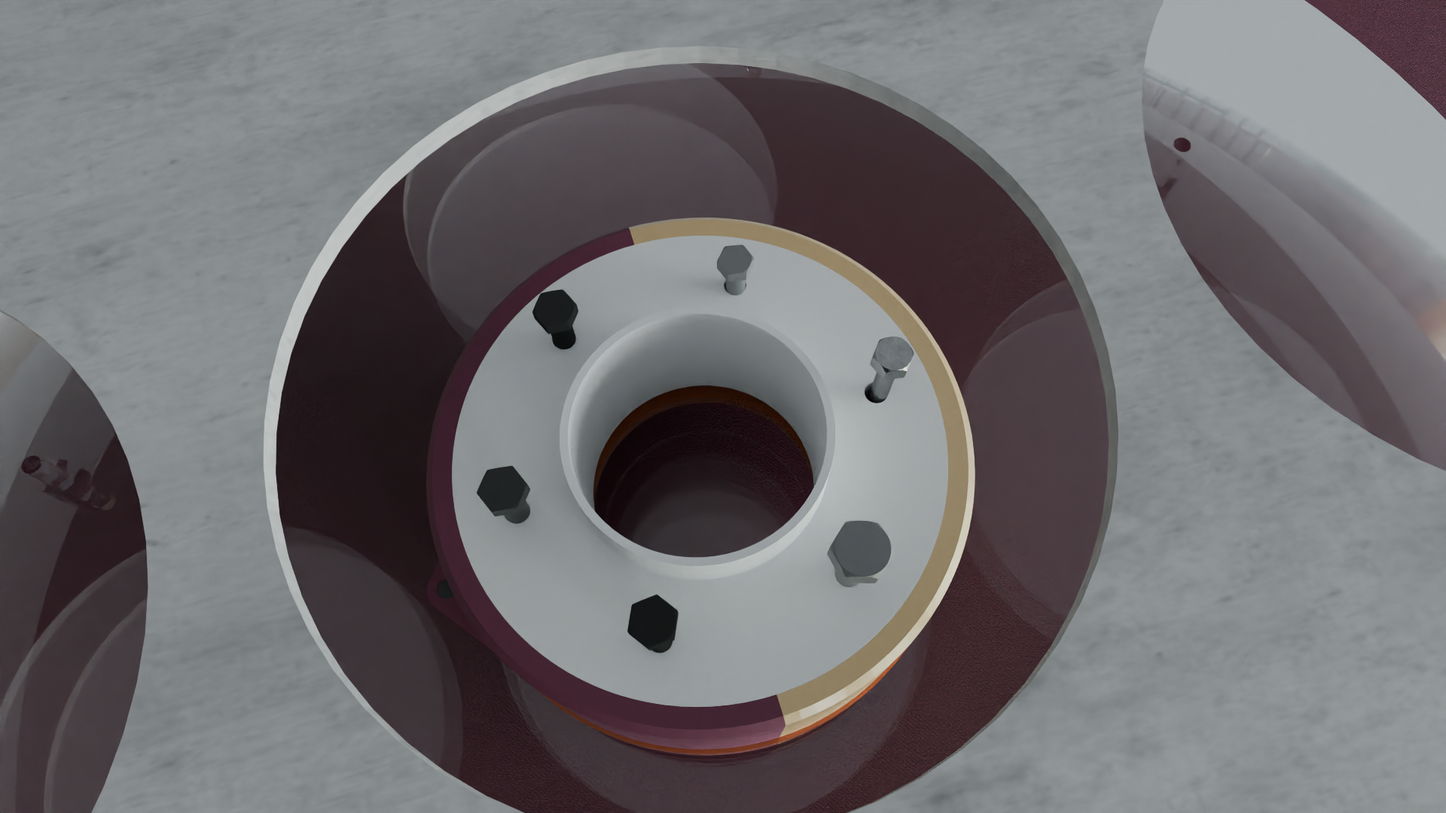bolt: (829, 520, 895, 579), (627, 595, 678, 648), (477, 466, 527, 512), (532, 290, 577, 327), (872, 336, 914, 373), (717, 245, 754, 276)
